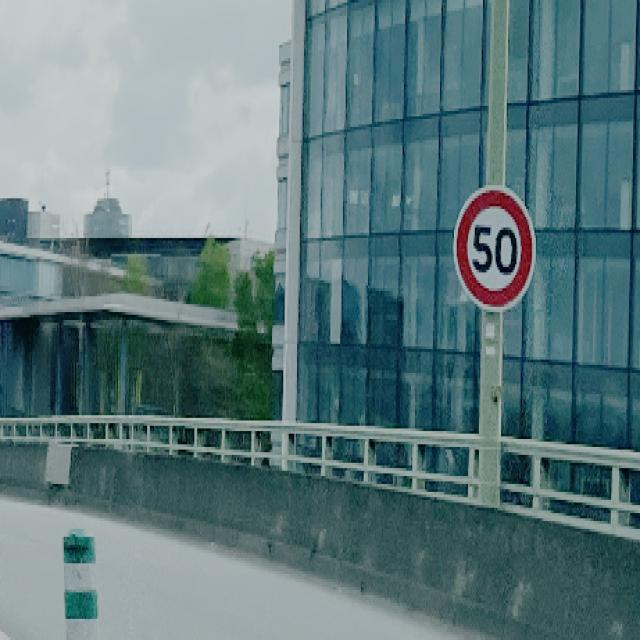speed_50: (453, 187, 535, 307)
